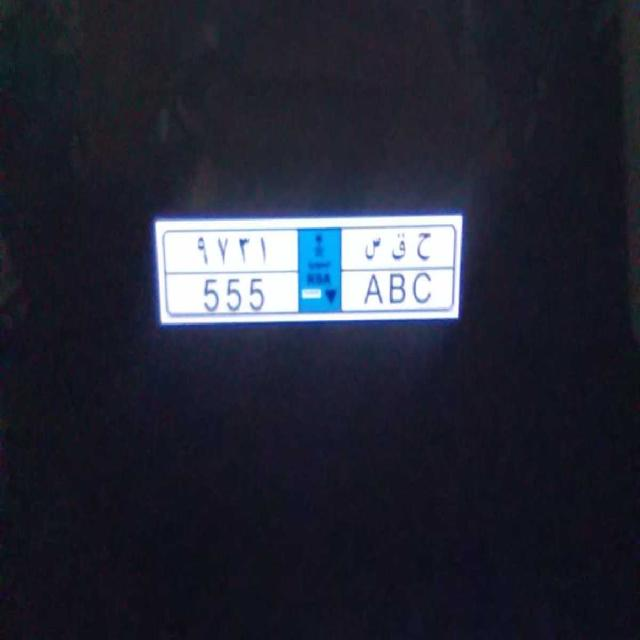license_plate: (185, 269, 446, 320)
